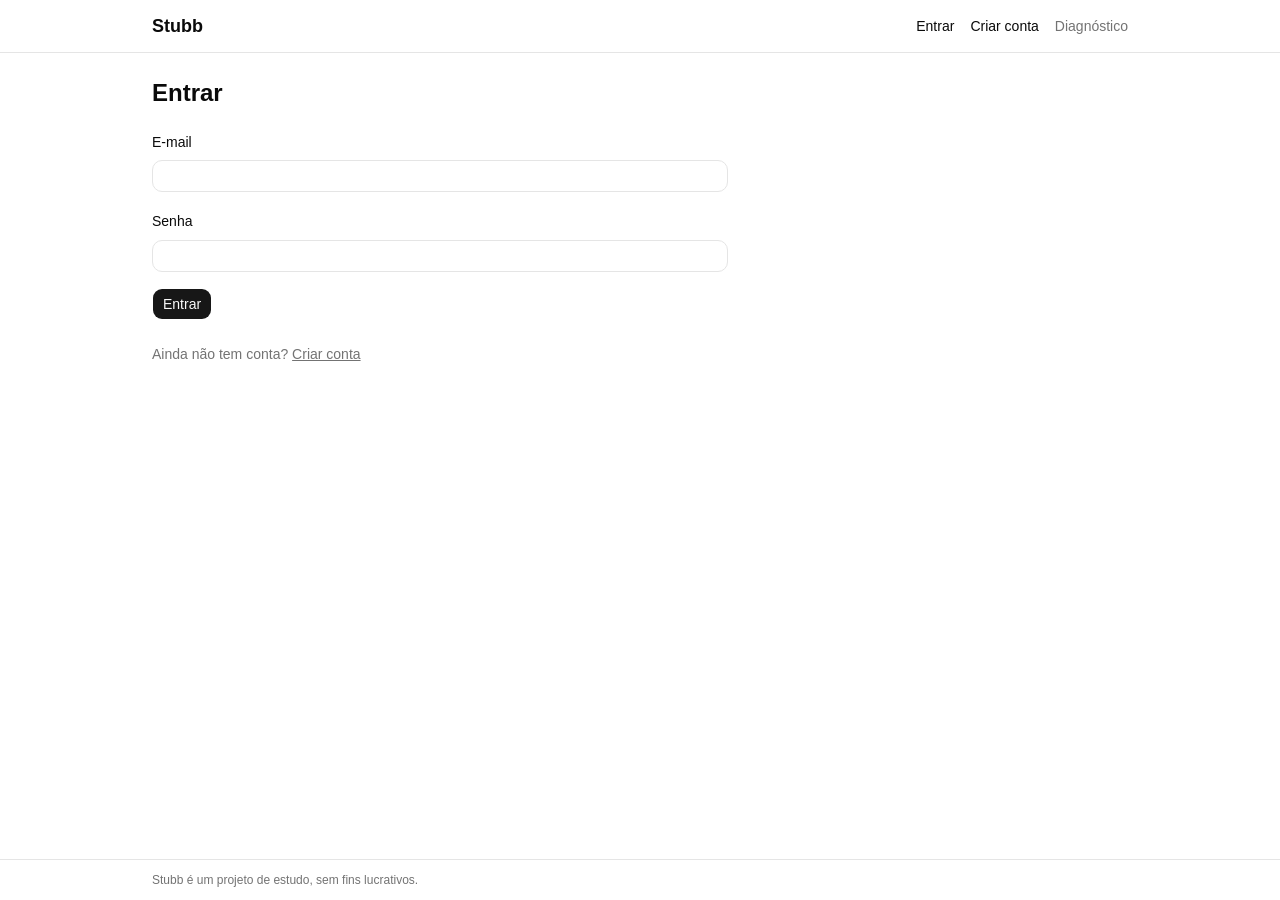
it: LoginPage › 403 de e-mail não verificado mostra o aviso e Reenviar link, que usa o e-mail digitado
This screenshot has width=1280, height=900.
Step 1. Type "Ana@Exemplo.com" into the field labelled "E-mail" → coordinates (440, 176), box top-left (152, 160), bottom-right (728, 192)
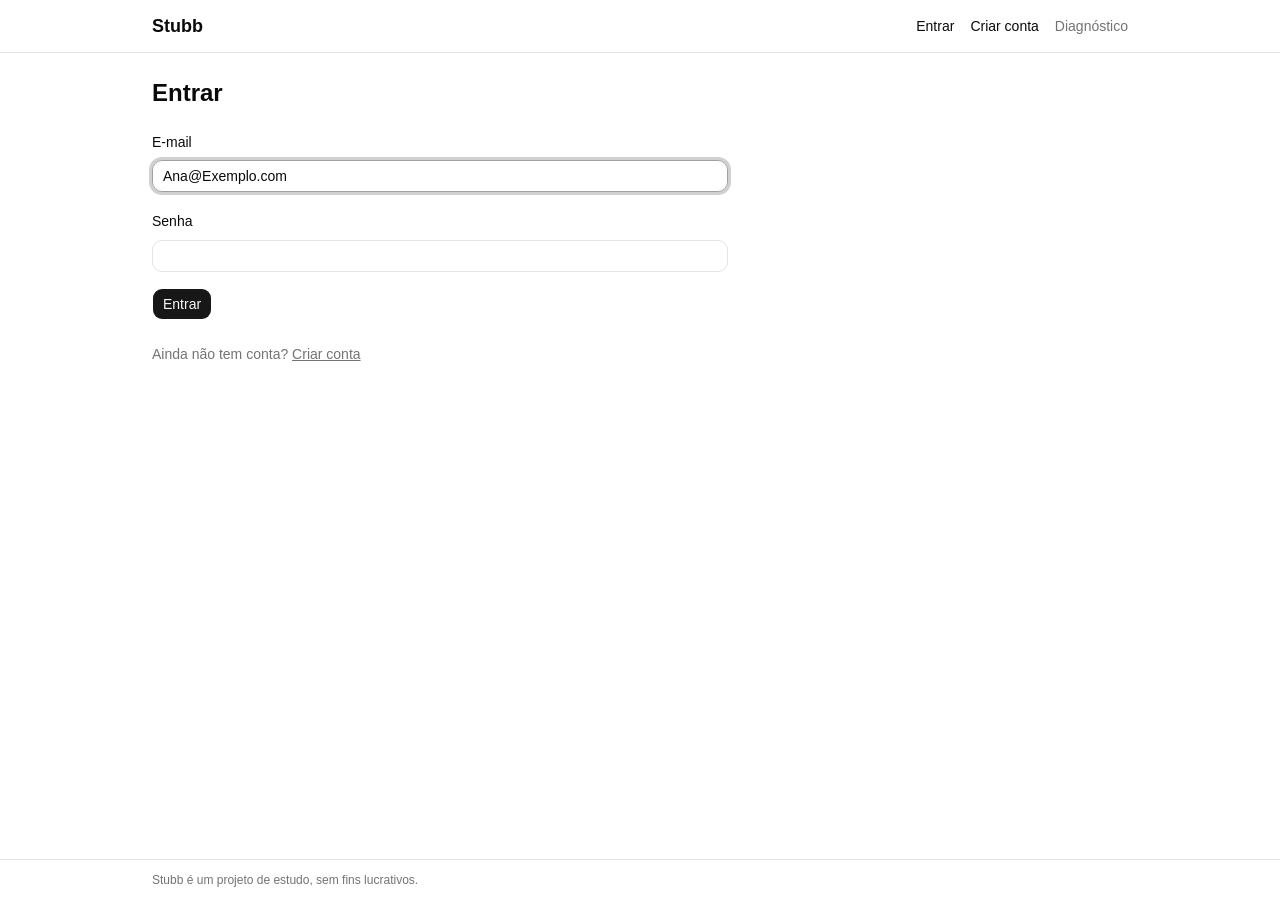
Step 2. Type "senha-segura-1" into the password field labelled "Senha" → coordinates (440, 256), box top-left (152, 240), bottom-right (728, 272)
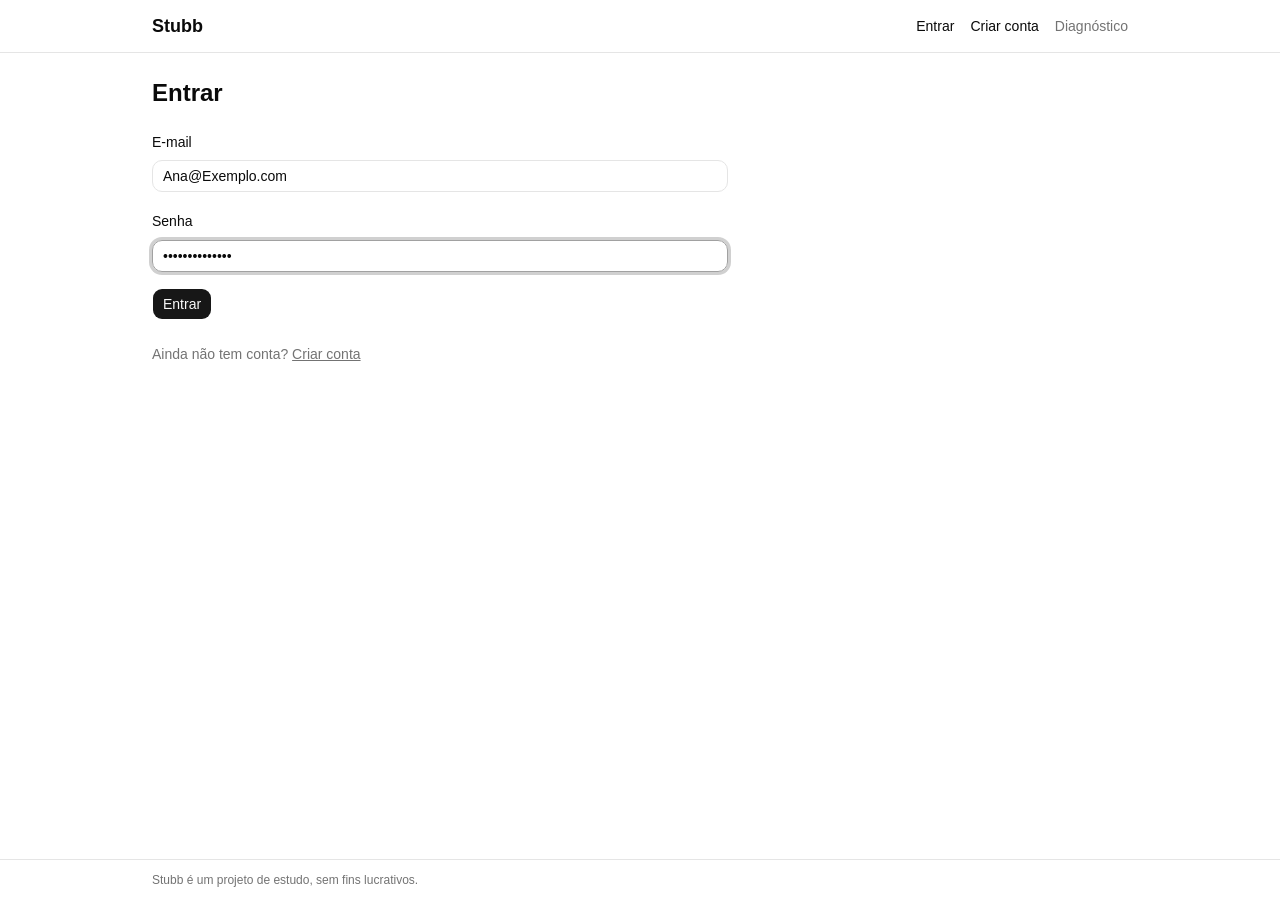
Step 3. Click the button "Entrar" → coordinates (182, 304), box top-left (152, 288), bottom-right (212, 320)
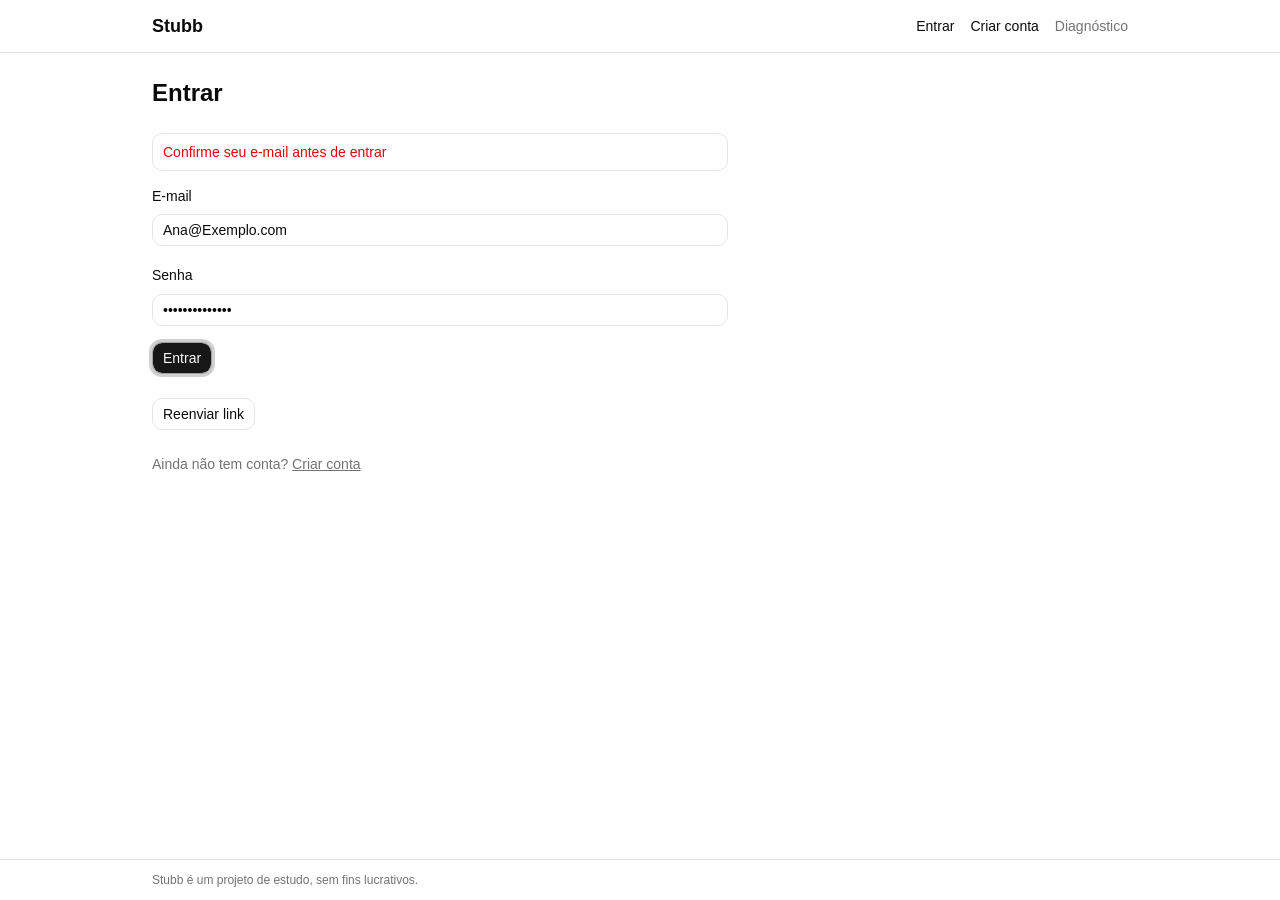
Check: the text "Confirme seu e-mail antes de entrar" is shown, box top-left (152, 133), bottom-right (728, 171)
Step 4. Click the button "Reenviar link" → coordinates (203, 414), box top-left (152, 398), bottom-right (255, 430)
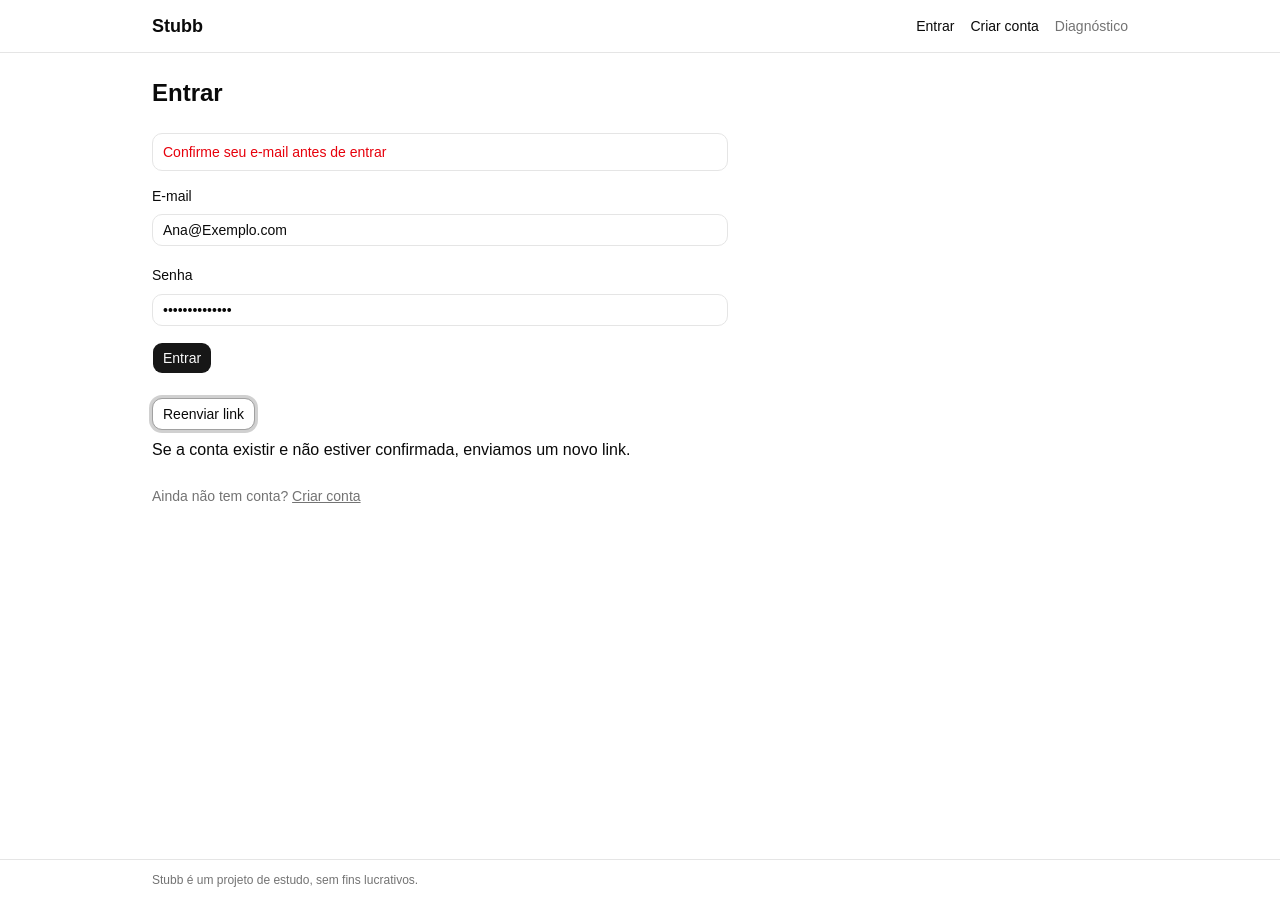
Check: the text "Se a conta existir e não estiver confirmada, enviamos um novo link." is shown, box top-left (152, 440), bottom-right (630, 458)
